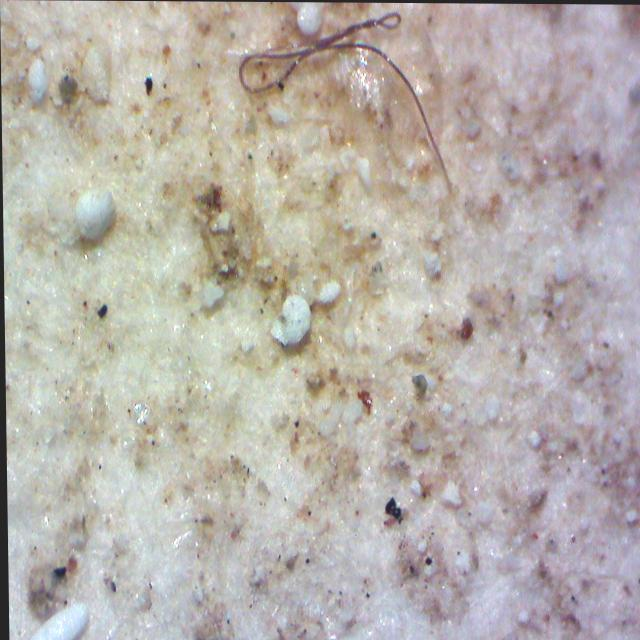microplastic: (237, 10, 452, 191)
